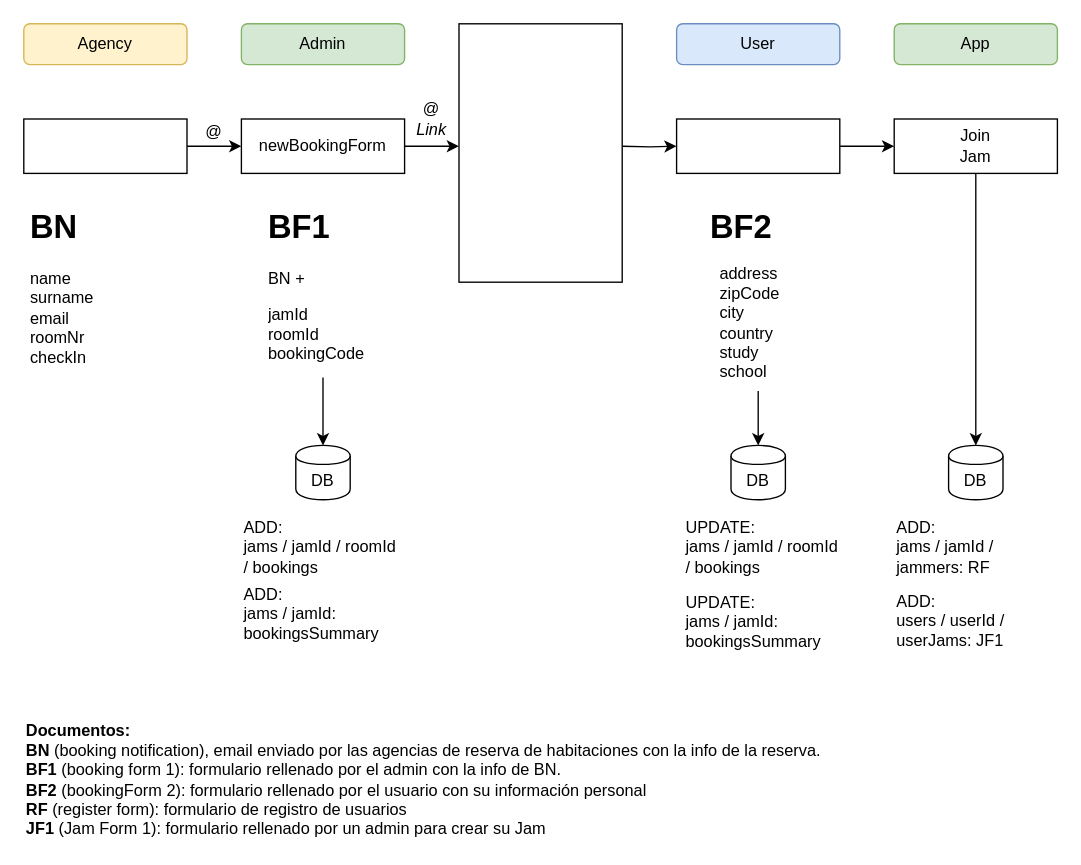
Some shapes in this 1081 by 865 pixel diagram are drawn without their labels. The shapes that lost their labels are listed below. From the top down, each one's centre as x and y in pixels, then its label:
the point at 104,145: newBooking
the point at 540,152: REGISTER PROCESS
the point at 757,145: Jam Register
